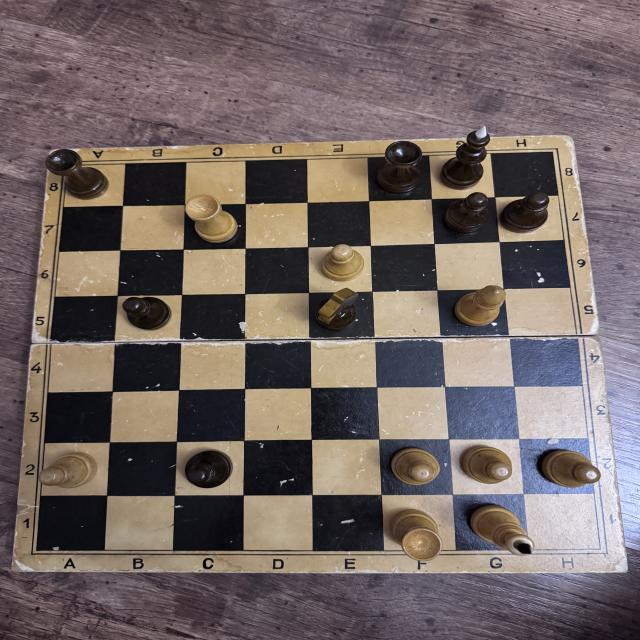black-king: (441, 126, 490, 188)
black-knight: (314, 288, 362, 332)
black-pawn: (444, 190, 491, 237), (501, 193, 549, 233), (121, 294, 172, 331), (184, 450, 232, 488)
black-rook: (44, 146, 108, 201), (372, 140, 430, 197)
white-bishop: (452, 285, 507, 328)
white-king: (466, 501, 536, 557)
white-pawn: (34, 452, 97, 489), (543, 448, 598, 487), (392, 448, 442, 485), (463, 446, 511, 484), (322, 243, 364, 280)
white-rook: (390, 509, 442, 562), (186, 194, 240, 245)
